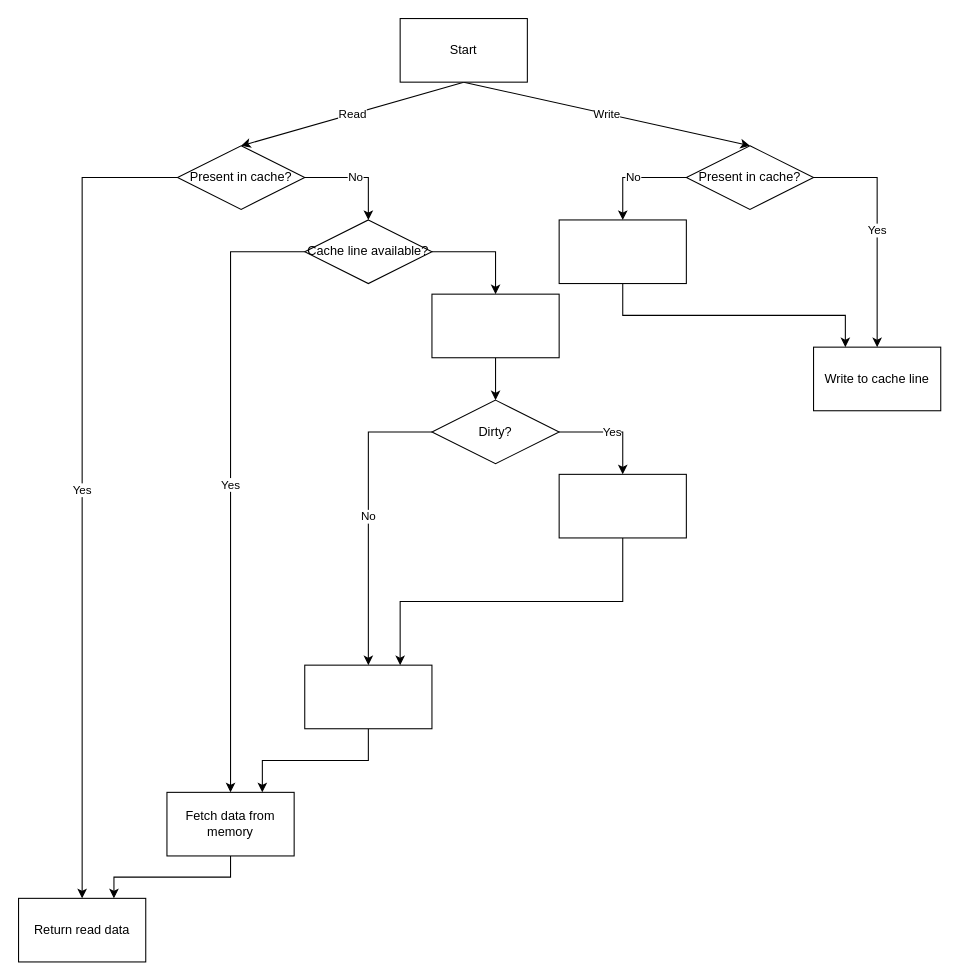
Image size: 959x980. Some labels were removed from this diagram. The shapes that lost their labels are listed below. From the top down, each one's box as (x1, y1, x2, y2) in pixels, then its label:
(558, 219, 686, 284): (Read address to fetch cache line)
(431, 293, 559, 358): Evict cache line
(558, 473, 686, 538): Copy to writeback buffer (potential delay if buffer is full)
(304, 664, 432, 729): (Mark invalid)
